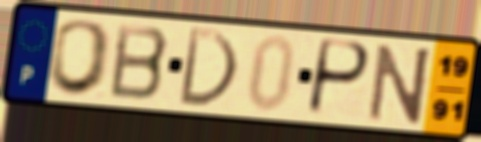0: (245, 33, 300, 115)
B: (106, 21, 172, 103)
D: (175, 25, 241, 110)
N: (365, 41, 434, 125)
O: (43, 18, 116, 98)
P: (304, 36, 373, 119)
